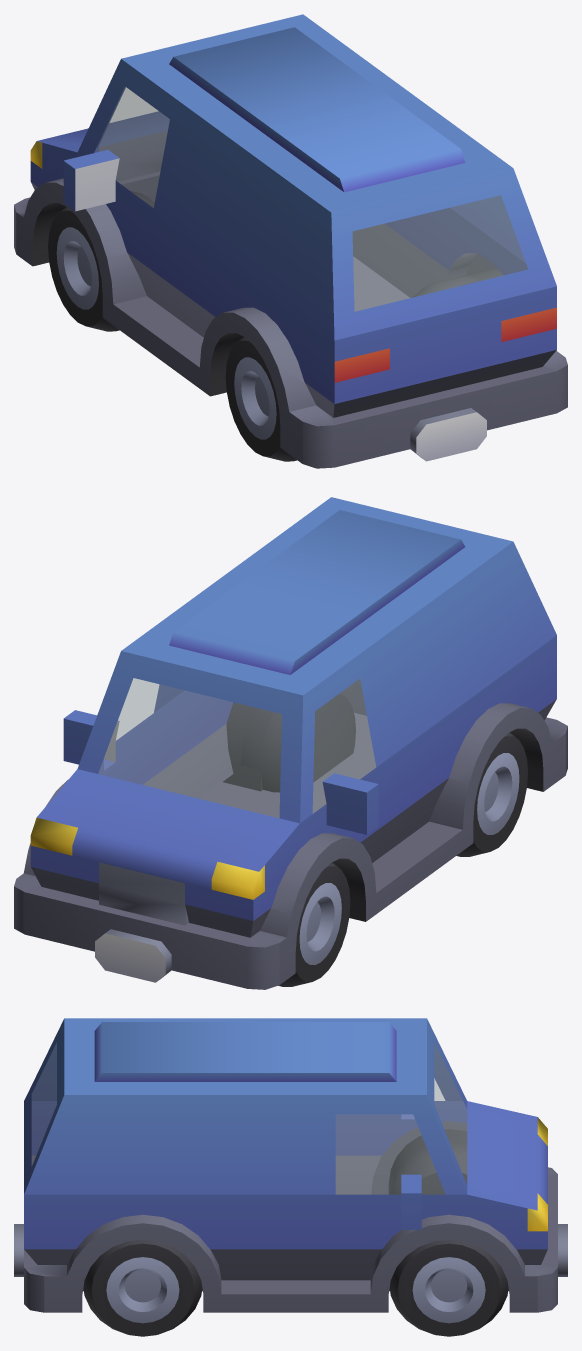
Rendered from van.glb.
3 views of the same model, one above another, from view 1: azimuth 30°, elevation 25°; view 2: azimuth 150°, elevation 25°; view 3: azimuth 270°, elevation 25° (orthographic). The views are drawn at different scales.
Parts seen in each view (by area): view 1: body, wheel-front-left, wheel-back-left; view 2: body, wheel-back-right, wheel-front-left, wheel-back-left; view 3: body, wheel-front-right, wheel-back-right, wheel-front-left.
Boxes of the visible parts, bbox=[...] form: body: bbox=[14, 14, 567, 468]; wheel-front-left: bbox=[48, 191, 154, 331]; wheel-back-left: bbox=[225, 337, 296, 461]; body: bbox=[14, 497, 567, 989]; wheel-back-right: bbox=[240, 693, 355, 792]; wheel-front-left: bbox=[278, 862, 350, 986]; wheel-back-left: bbox=[456, 732, 527, 856]; body: bbox=[14, 1018, 567, 1312]; wheel-front-right: bbox=[389, 1239, 508, 1336]; wheel-back-right: bbox=[83, 1239, 202, 1336]; wheel-front-left: bbox=[389, 1142, 467, 1194].
Size of the model in its own units: 2.4 by 2.16 by 4.4.
2 materials, 1 textured.
